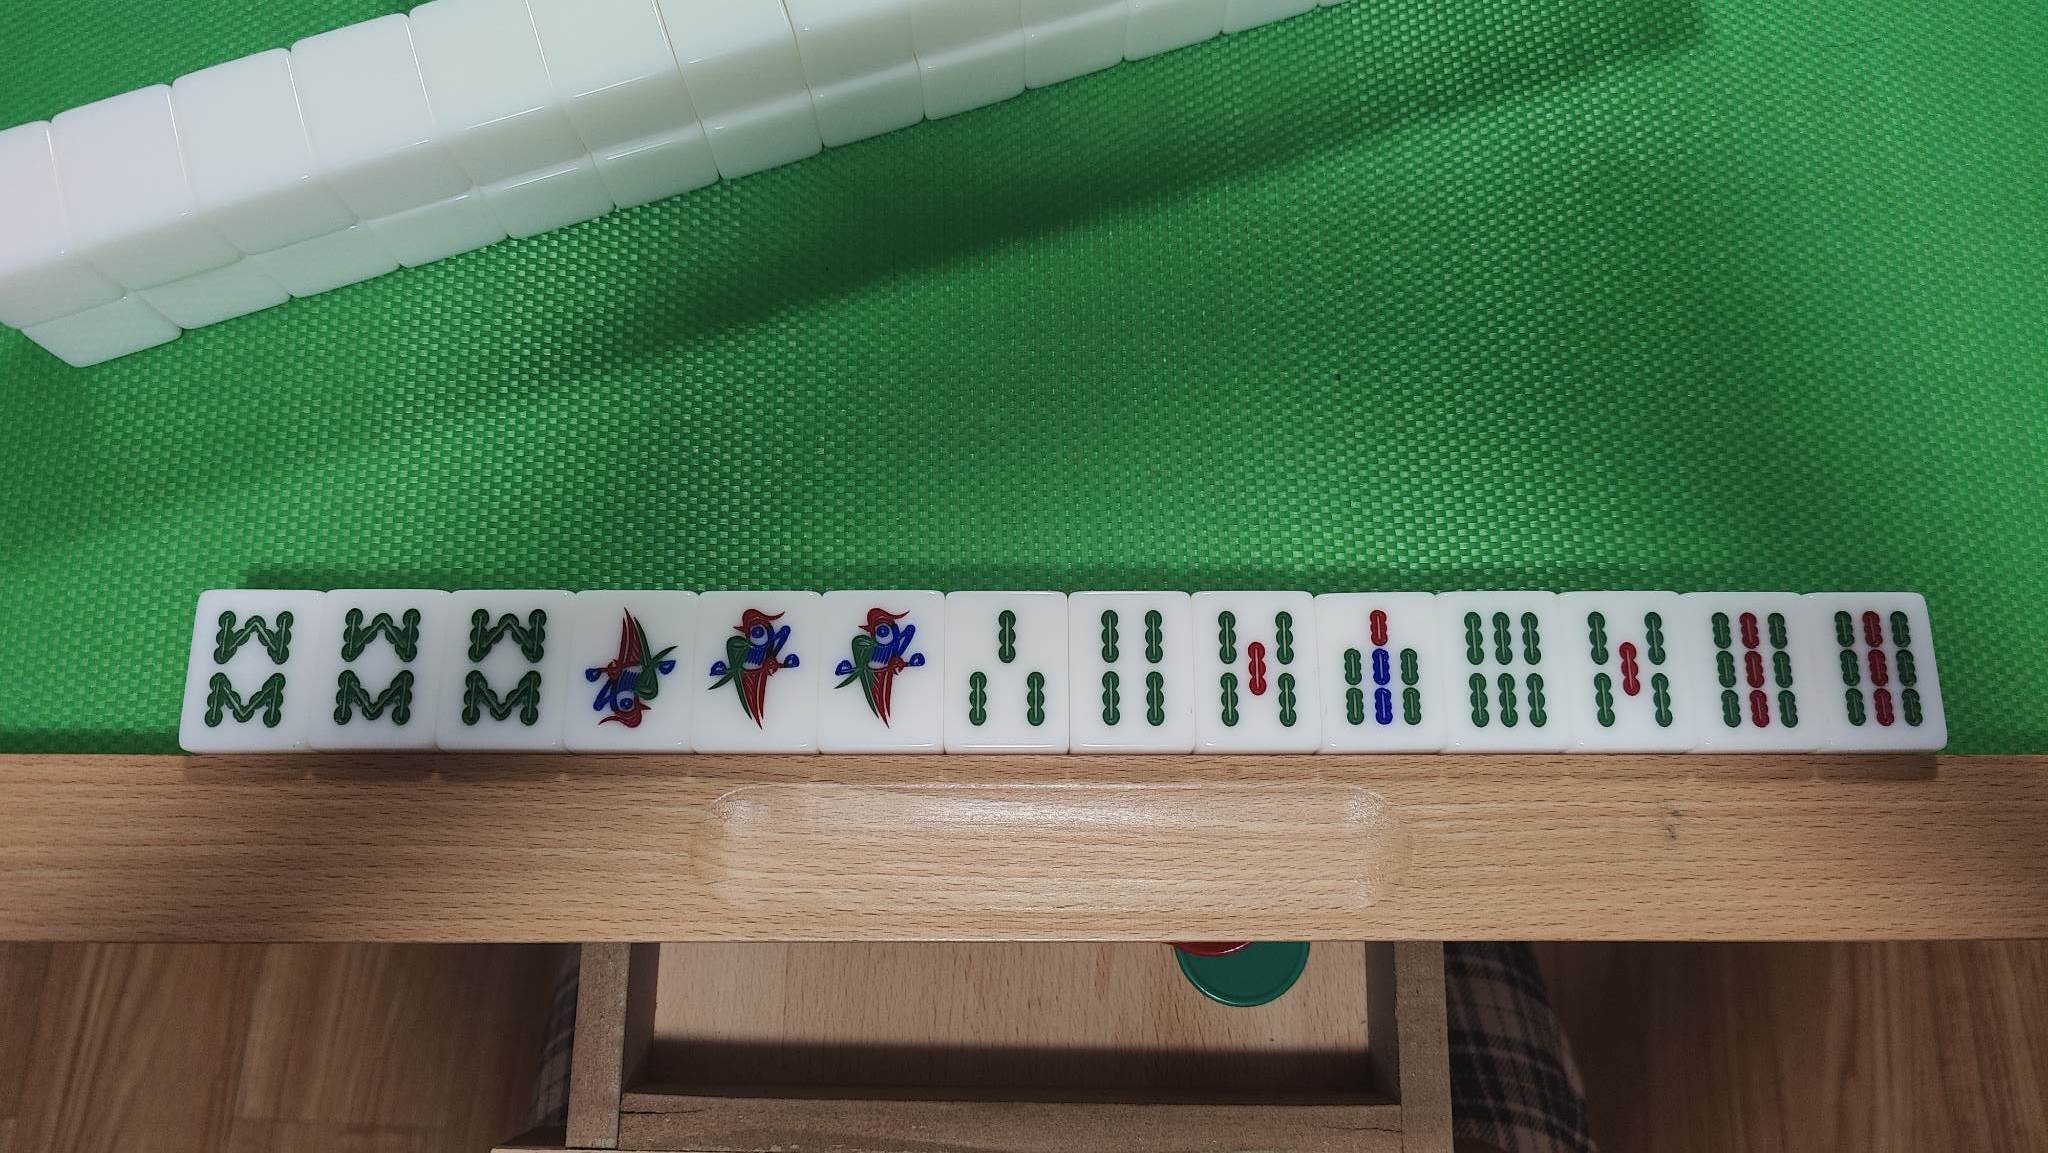bamboo-eight: (454, 595, 560, 742), (325, 598, 429, 742), (198, 593, 298, 741)
bamboo-five: (1198, 596, 1312, 747), (1575, 598, 1685, 742)
bamboo-four: (1075, 595, 1186, 747)
bamboo-nine: (1696, 598, 1812, 745), (1824, 600, 1935, 742)
bamboo-one: (821, 595, 935, 744), (572, 598, 686, 747), (700, 596, 810, 747)
bamboo-seven: (1326, 598, 1436, 747)
bamboo-six: (1447, 600, 1561, 742)
bamboo-three: (951, 595, 1063, 744)
